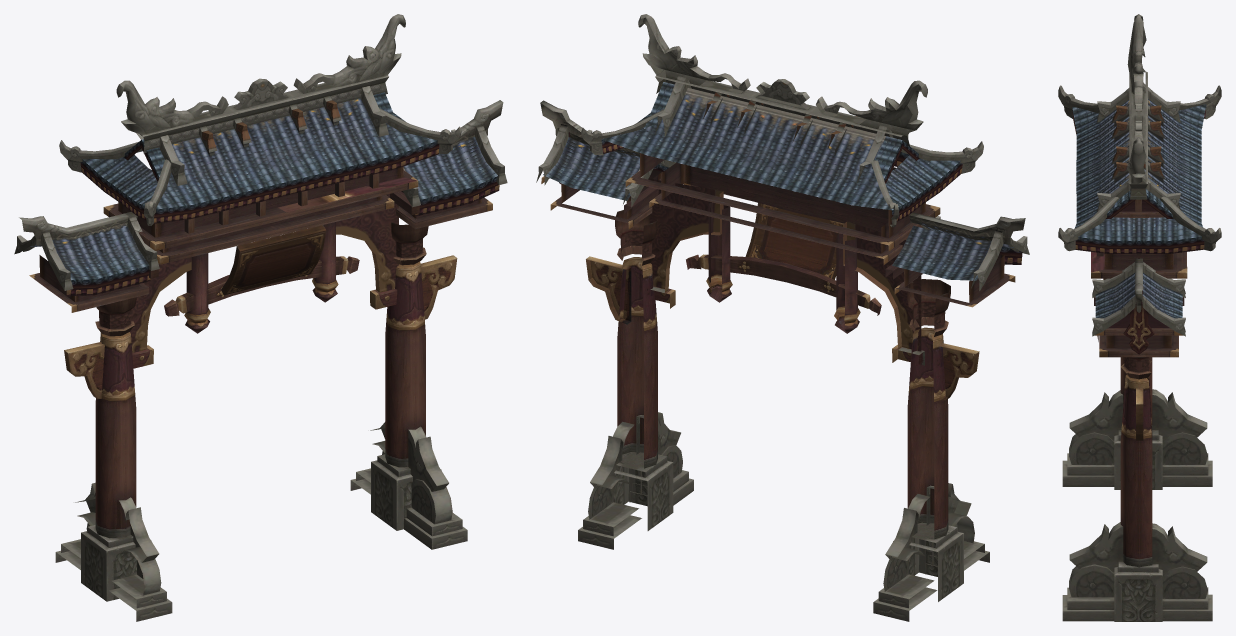
File: cj_luoyang_paifang001_56_01_9550out.fbx
The picture shows the model from 3 angles, left to right: view 1: azimuth 30°, elevation 25°; view 2: azimuth 150°, elevation 25°; view 3: azimuth 270°, elevation 25°; orthographic projection. The views are drawn at different scales.
Parts seen in each view (by area): view 1: 0000_cj_luoyang_paifang001, 0001_cj_luoyang_paifang001; view 2: 0000_cj_luoyang_paifang001, 0001_cj_luoyang_paifang001; view 3: 0000_cj_luoyang_paifang001, 0001_cj_luoyang_paifang001.
Boxes of the visible parts, box(x1,y1,x2,y2) form: 0000_cj_luoyang_paifang001: box(14, 14, 507, 621); 0001_cj_luoyang_paifang001: box(30, 92, 499, 296); 0000_cj_luoyang_paifang001: box(536, 14, 1029, 621); 0001_cj_luoyang_paifang001: box(543, 82, 1022, 280); 0000_cj_luoyang_paifang001: box(1058, 14, 1221, 621); 0001_cj_luoyang_paifang001: box(1072, 99, 1206, 341).
Size of the model in its own units: 7.83 by 7.83 by 2.47.
